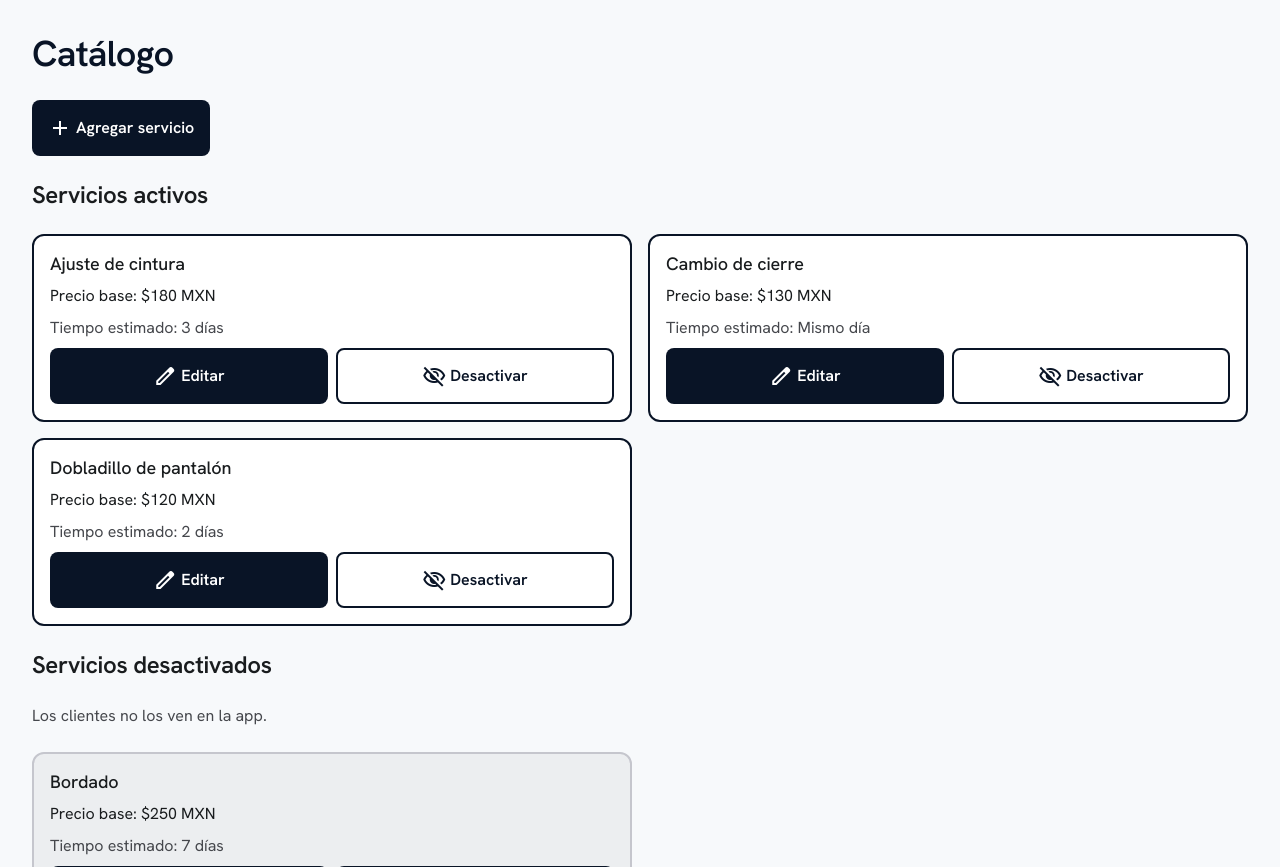
Test case: Price quoted in store › keeps the in-store choice when editing the service
The width and height of the screenshot is (1280, 867).
Step 1. Click the button "Editar" below "3 días" → (189, 376), box [50,348,328,404]
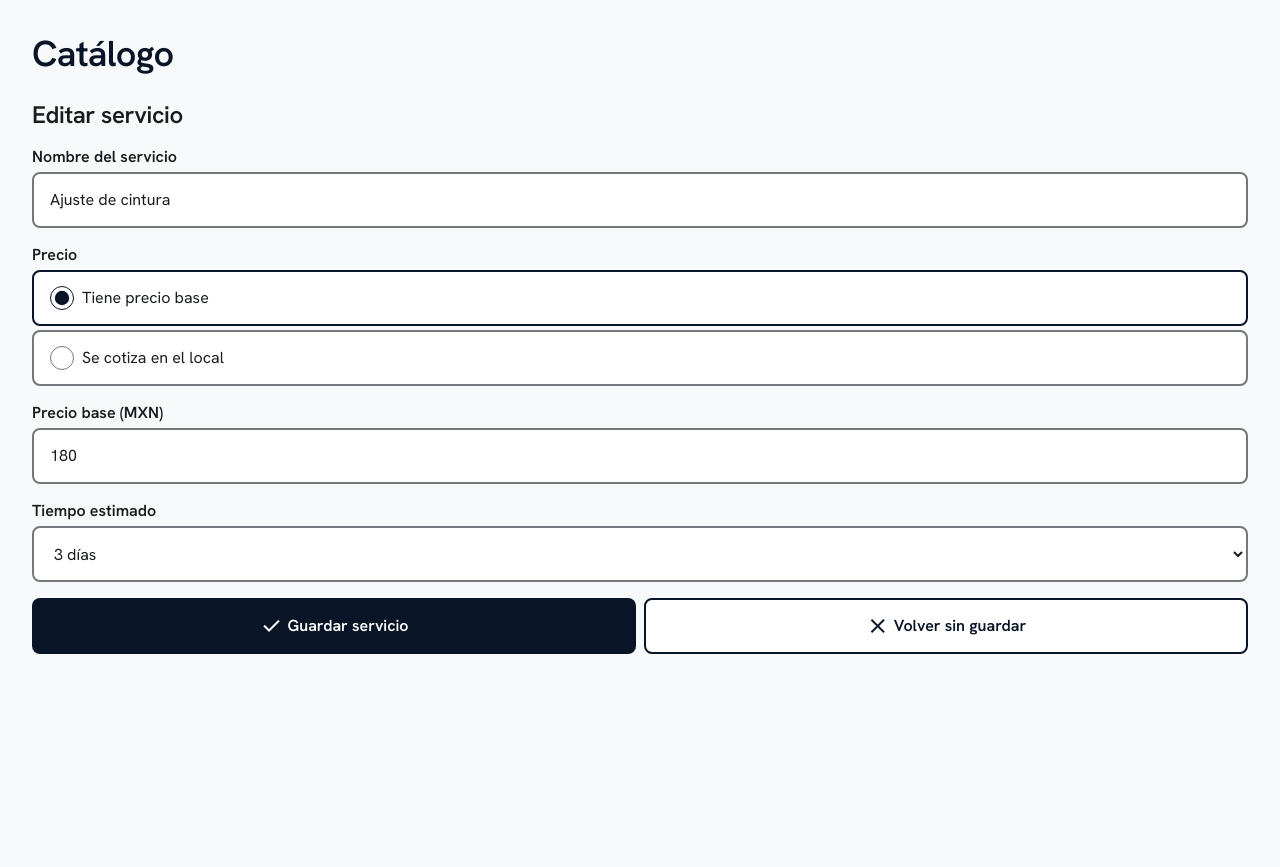
Check: the radio button labelled "Tiene precio base" is checked, box [50,286,74,310]
Step 2. Click the radio button labelled "Se cotiza en el local" → (62, 358), box [50,346,74,370]
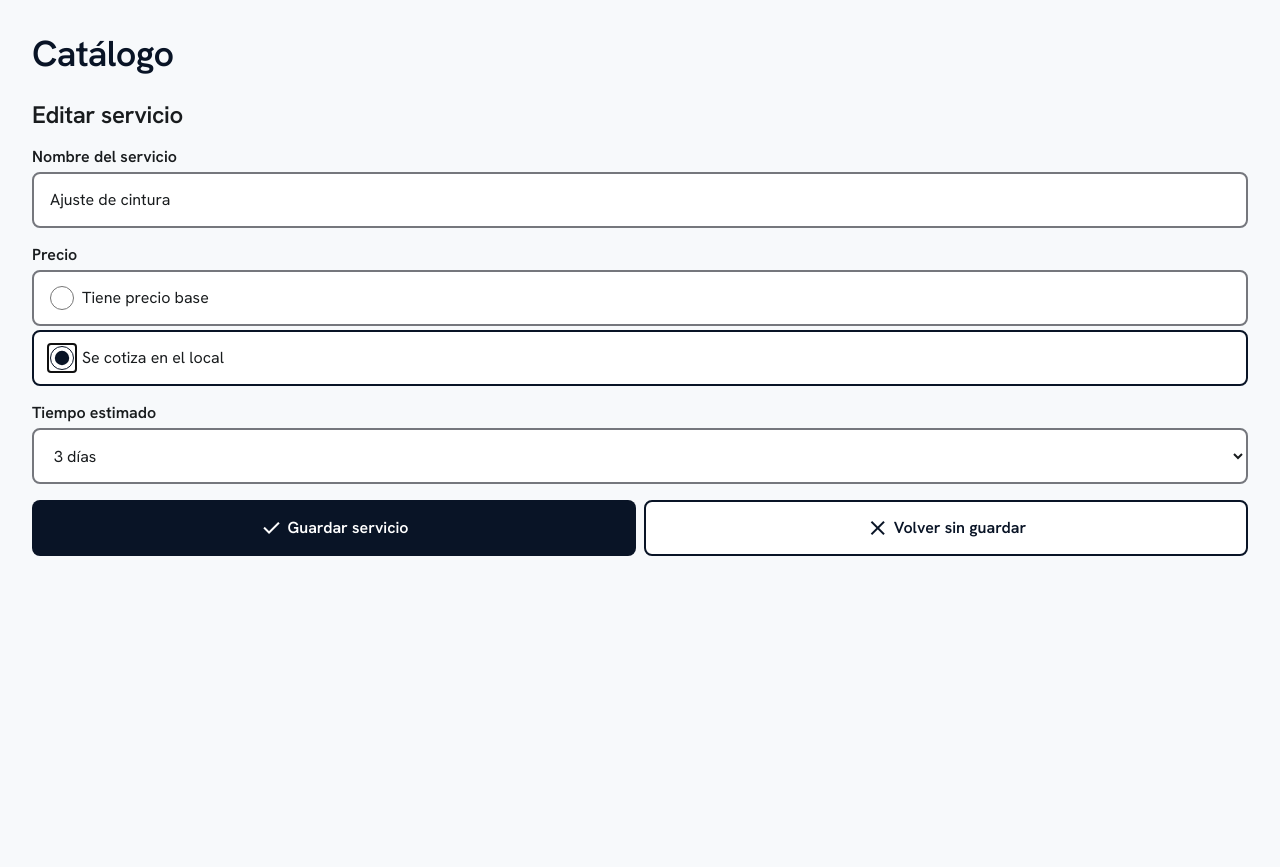
Step 3. Click the button "Guardar servicio" → (334, 528), box [32,500,636,556]
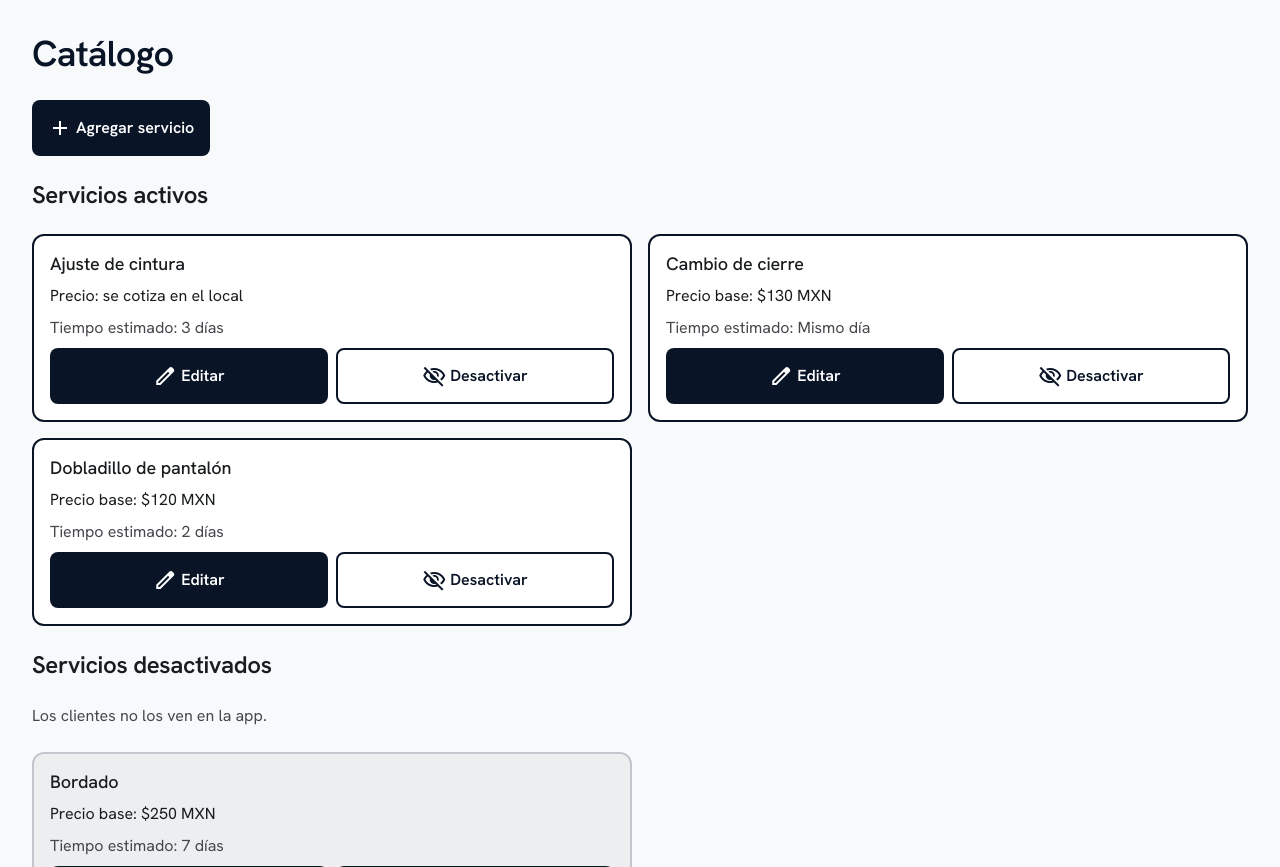
Check: the list item that starts with "Ajuste de cintura" shows "Precio: se cotiza en el local", box [50,285,243,306]
Step 4. Click the button "Editar" below "3 días" → (189, 376), box [50,348,328,404]
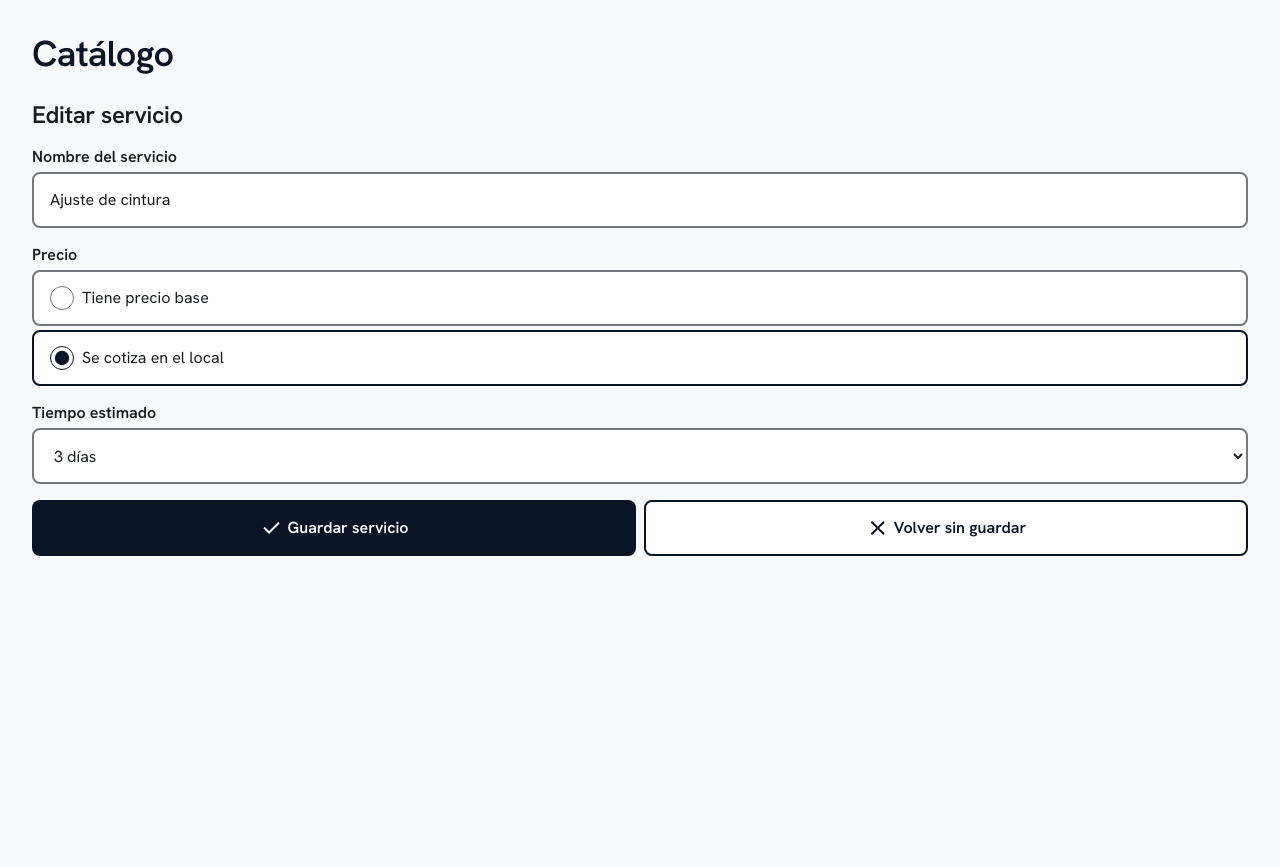
Check: the radio button labelled "Se cotiza en el local" is checked, box [50,346,74,370]
